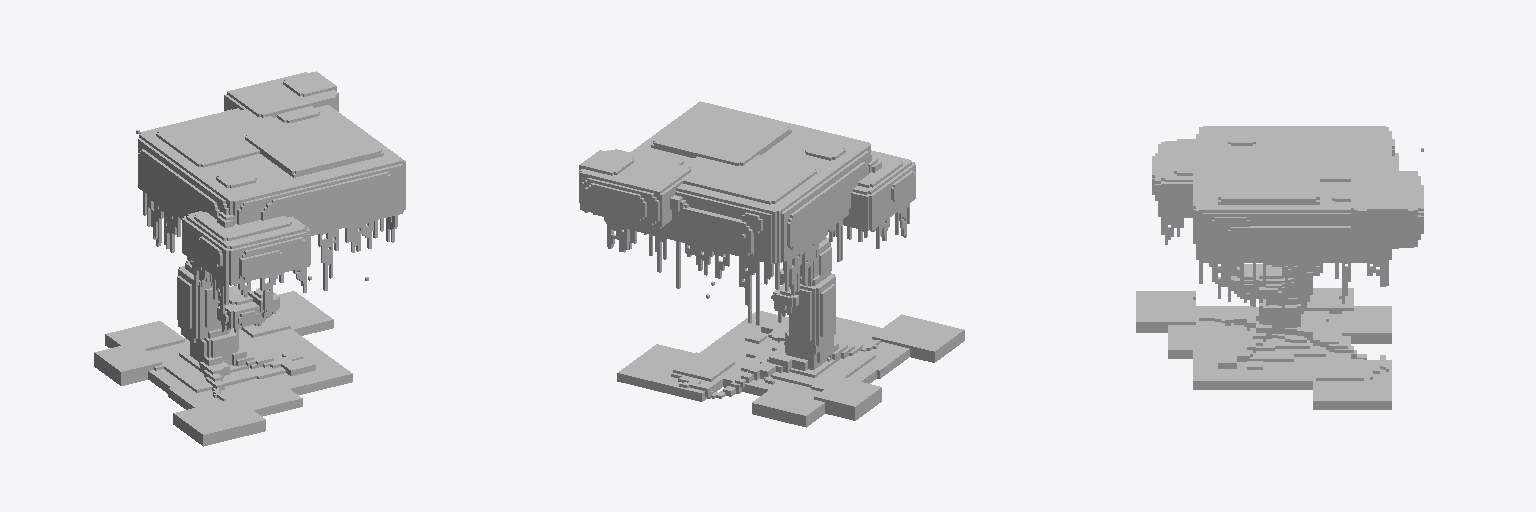
Rendered from Package 01 Necro Dungeon-92.obj.
3 renders of one model, left to right at view 1: azimuth 30°, elevation 25°; view 2: azimuth 150°, elevation 25°; view 3: azimuth 270°, elevation 25°, orthographic.
Parts seen in each view (by area): view 1: object 1; view 2: object 1; view 3: object 1.
Part boxes in pixels (bbox=[...]): object 1: bbox=[94, 71, 405, 446]; object 1: bbox=[579, 101, 964, 427]; object 1: bbox=[1136, 126, 1423, 409].
Size of the model in its own units: 9.1 by 7.5 by 9.1.